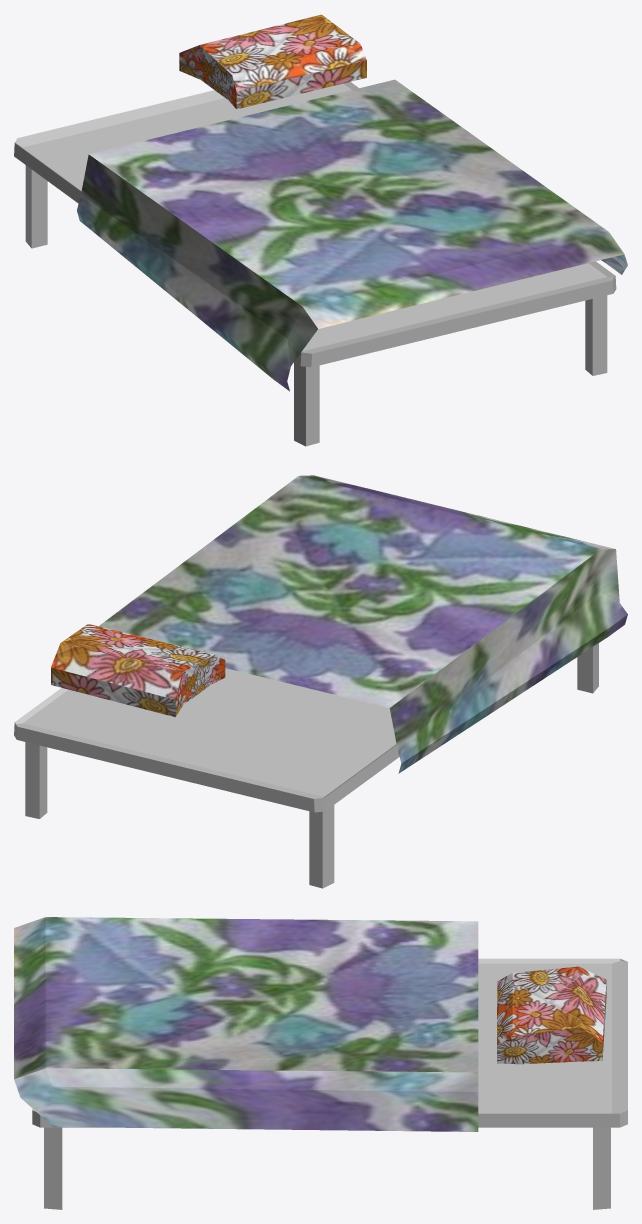
File: Bed.fbx
The picture shows the model from 3 angles, top to bottom: view 1: azimuth 30°, elevation 25°; view 2: azimuth 150°, elevation 25°; view 3: azimuth 270°, elevation 25°; orthographic projection. The views are drawn at different scales.
Parts seen in each view (by area): view 1: Bedsheet, BedFrame, Pillow; view 2: Bedsheet, BedFrame, Pillow; view 3: Bedsheet, BedFrame, Pillow.
Boxes of the visible parts, box(x1,y1,x2,y2) form: Bedsheet: box(77, 79, 627, 391); BedFrame: box(14, 82, 616, 446); Pillow: box(179, 14, 366, 109); Bedsheet: box(99, 475, 627, 773); BedFrame: box(14, 643, 598, 888); Pillow: box(51, 624, 225, 717); Bedsheet: box(14, 917, 478, 1131); BedFrame: box(32, 958, 627, 1209); Pillow: box(497, 966, 606, 1064).
Size of the model in its own units: 371 by 174 by 565.
